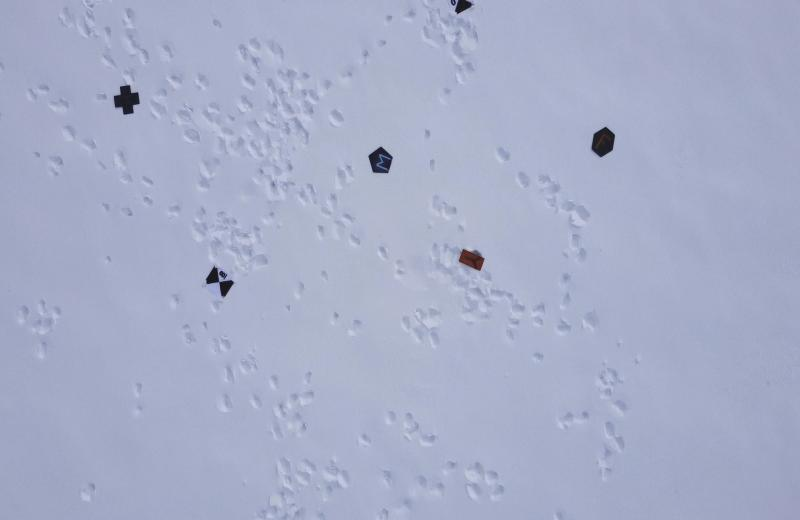Cross: (111, 82, 143, 116)
Hexagon: (587, 123, 618, 160)
Pentagon: (364, 143, 394, 178)
Rectangle: (454, 242, 488, 272)
